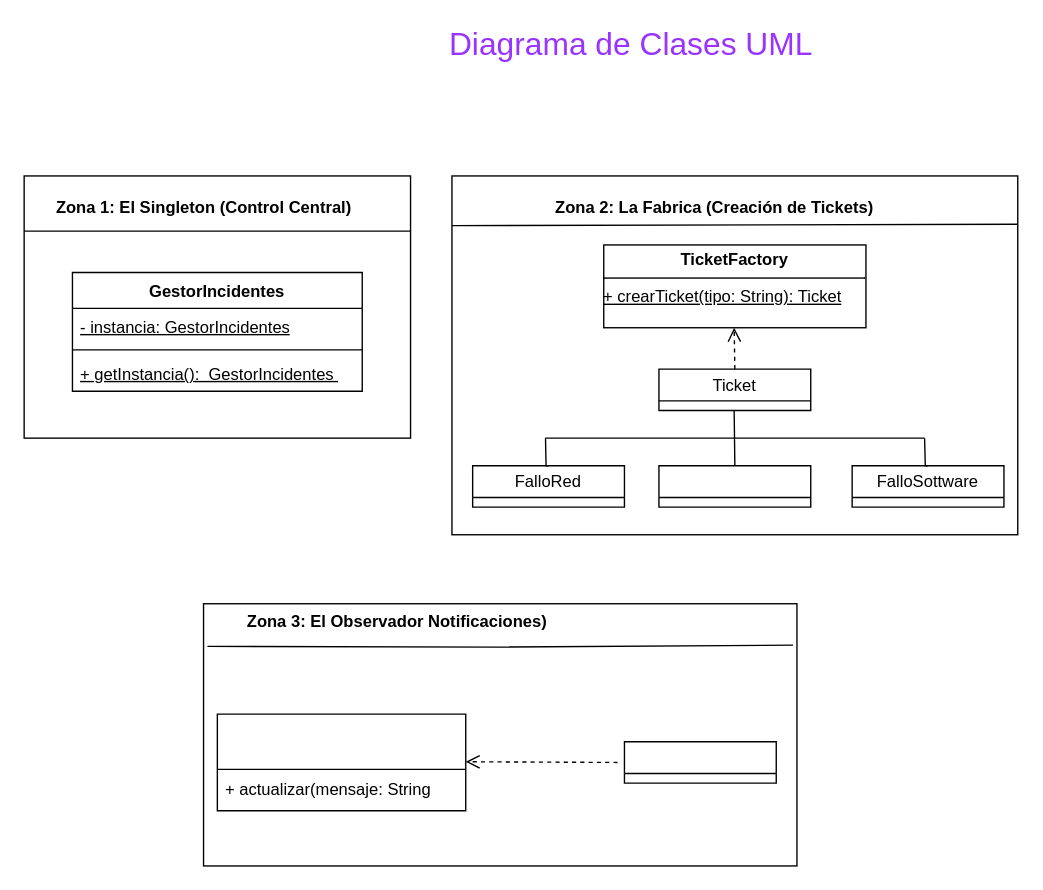
Image size: 1043x890. Some labels were removed from this diagram. Each missing label, with the box of its shape:
<<Interfaz>> IObserver: (216, 713, 466, 811)
FalloHardware: (658, 464, 811, 507)
Tecnico: (623, 740, 776, 783)
